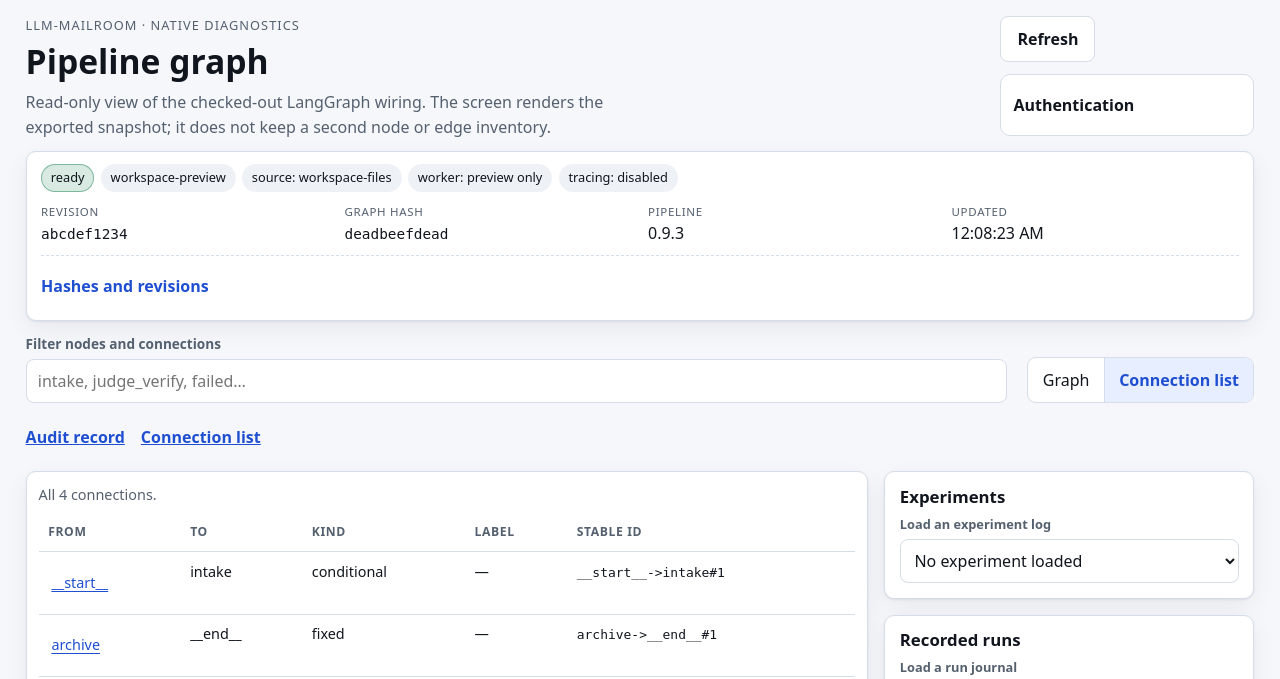
Scenario: App › selects a connection and shows its stable id in the inspector
This screenshot has width=1280, height=679.
Expected: the text "All 4 connections." is shown, [39,485,157,504]
Click the button "__start__" at (80,583), box [48,561,111,605]
(page scrolled)
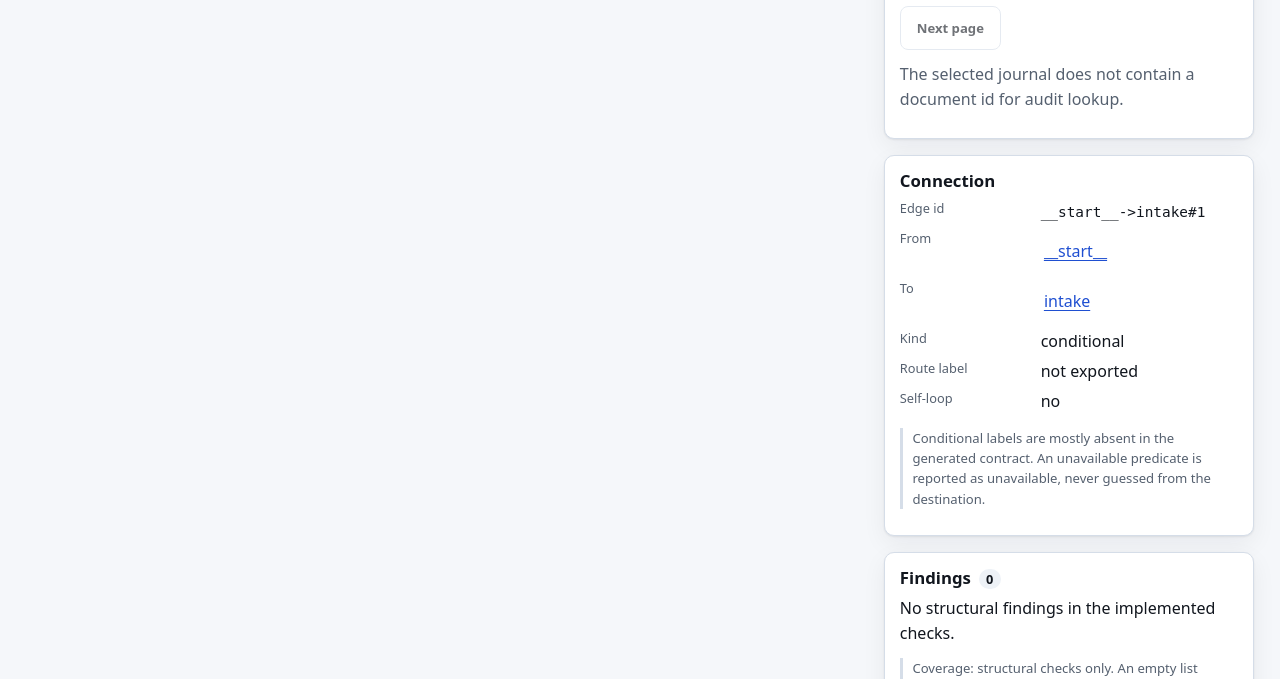
Now the text "__start__->intake#1" is shown, box [1041,204,1205,220]
Now the text "conditional" is shown, box [1041,330,1124,352]
